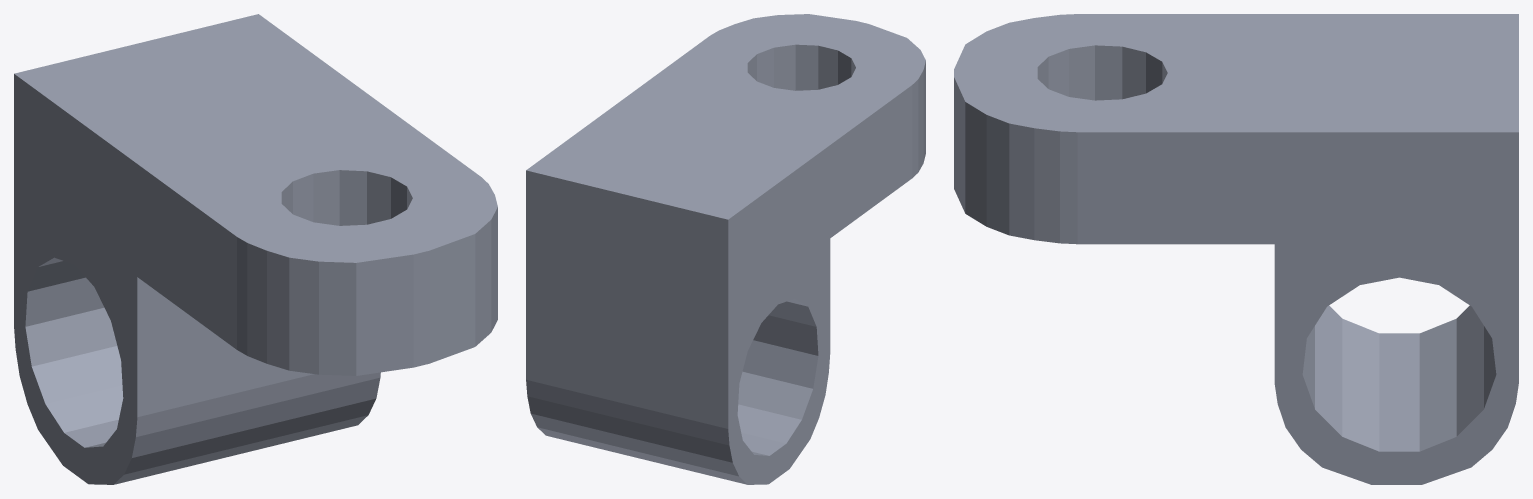
File: Insulator.glb
3 views of the same model, side by side, from view 1: azimuth 30°, elevation 25°; view 2: azimuth 150°, elevation 25°; view 3: azimuth 270°, elevation 25° (orthographic). The views are drawn at different scales.
Parts seen in each view (by area): view 1: Insulator; view 2: Insulator; view 3: Insulator.
Boxes of the visible parts, box(x1,y1,x2,y2) form: Insulator: box(14, 14, 497, 484); Insulator: box(526, 14, 925, 484); Insulator: box(954, 14, 1518, 484).
Size of the model in its own units: 0.2923 by 0.4067 by 0.5903.
Materials: 1 (1 with a texture image).
